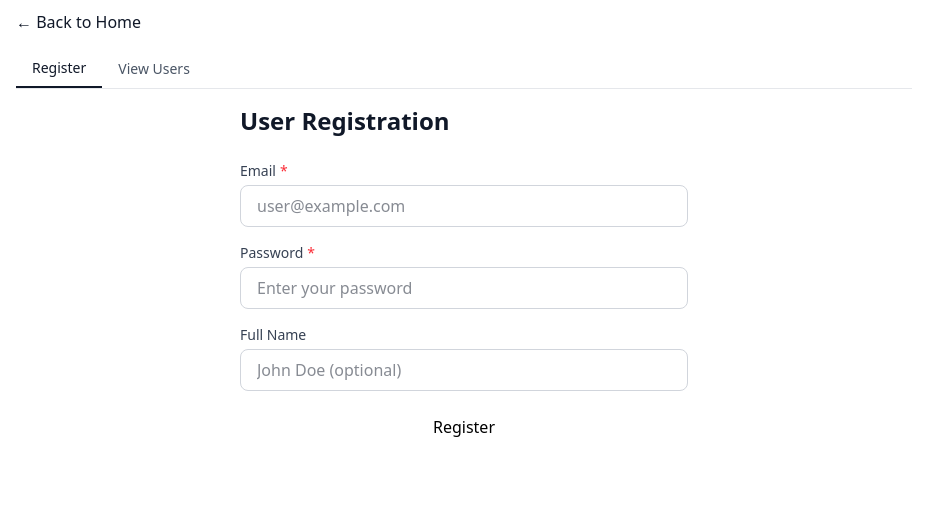
Test: Registration Page › shows error message on failed request
The width and height of the screenshot is (929, 516).
Type "test@example.com" into the field labelled "Email*" at (464, 206), box [240,185,688,227]
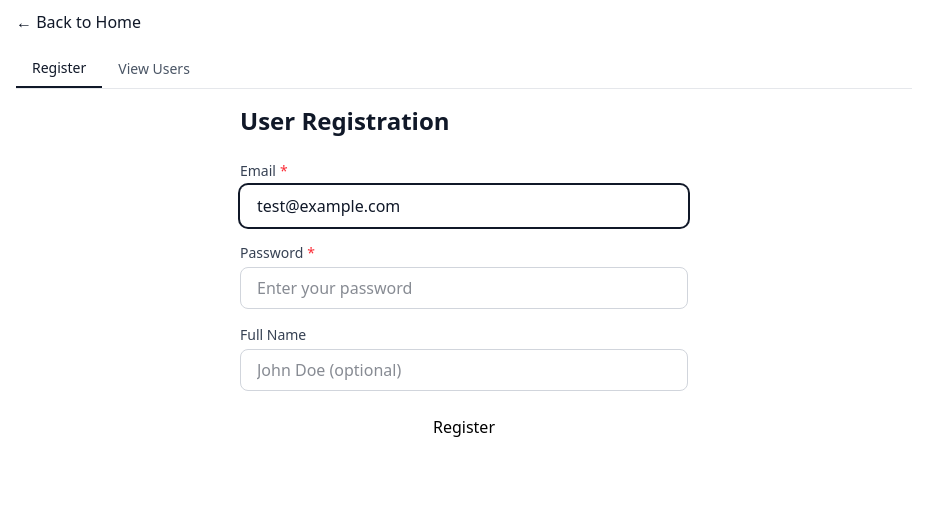
Type "password123" into the password field labelled "Password*" at (464, 288), box [240,267,688,309]
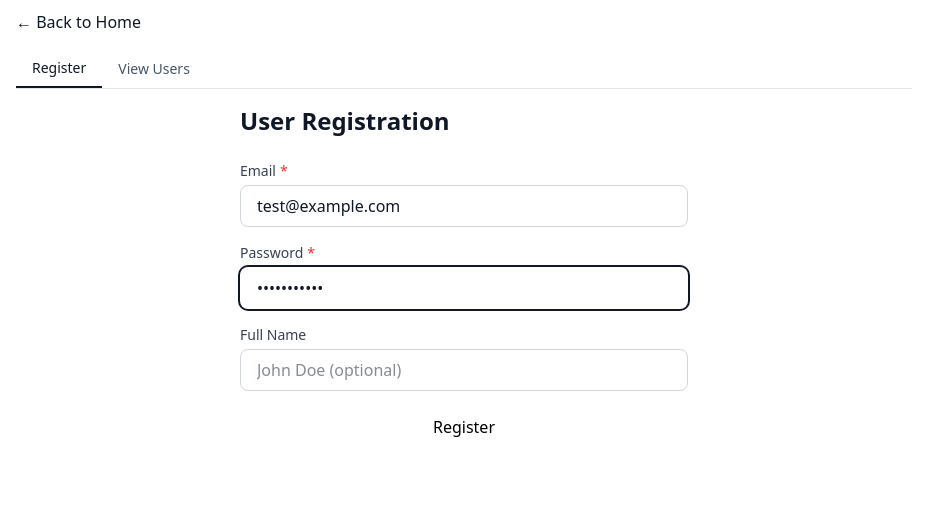
Click the button "Register" at (464, 427), box [240,407,688,447]
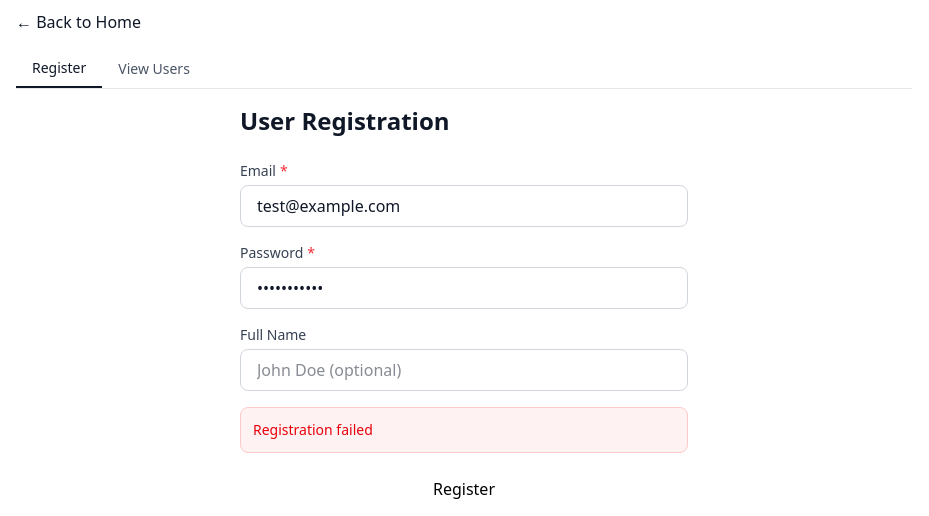
Expected: the text "Registration failed" is shown, [253,420,373,439]
